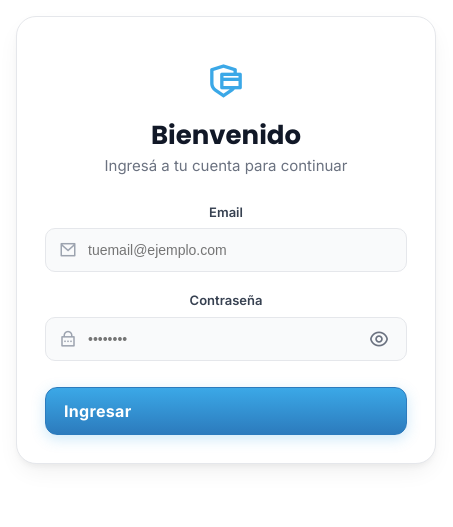
Test: Login error › muestra error de credenciales inválidas
In the field labelled "Email": (226, 250) [45,228,407,272], type "test@mail.com"
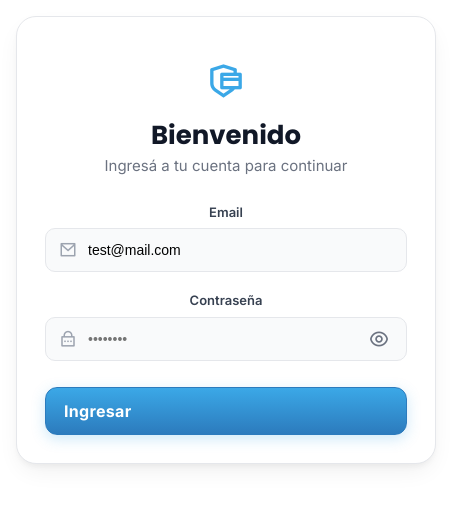
In the password field labelled "Contraseña": (226, 339) [45,317,407,361], type "123456"
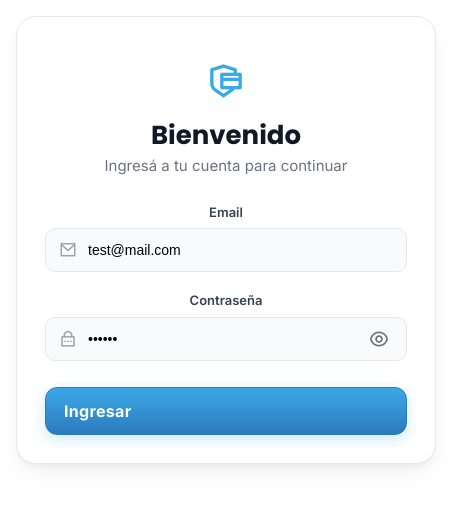
Click the button "Ingresar": (98, 411) [45,387,407,435]
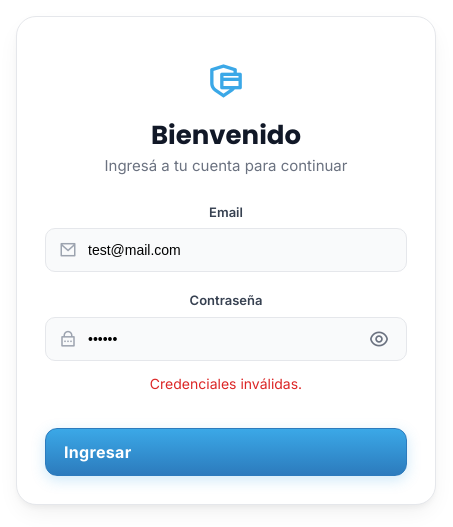
Check: the message reads "Credenciales inválidas.", box [150,375,302,392]
